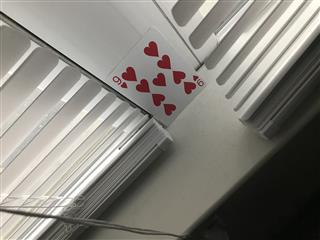NineOfHearts: (104, 26, 209, 126)
